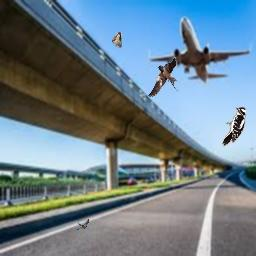Cuckoo: (76, 219, 89, 230)
Sparrow: (112, 32, 122, 48)
Swallow: (148, 57, 181, 97)
Woodpecker: (222, 107, 246, 147)
